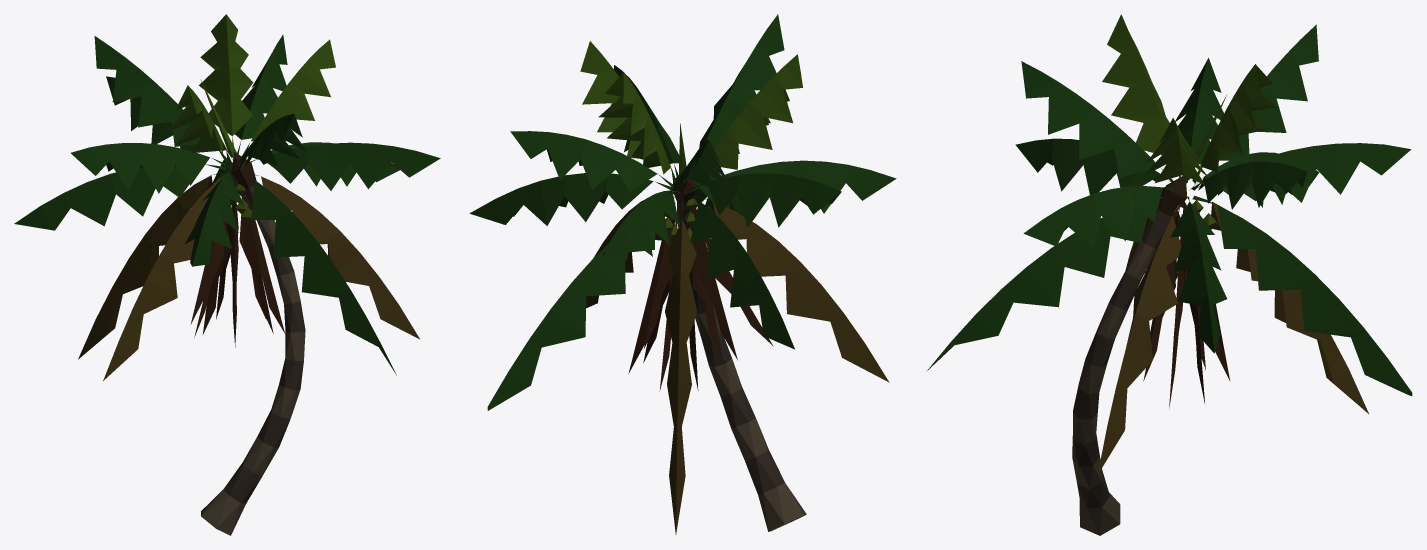
File: SM_Palm_Coco_D.fbx
3 renders of one model, left to right at view 1: azimuth 30°, elevation 25°; view 2: azimuth 150°, elevation 25°; view 3: azimuth 270°, elevation 25°, orthographic. The views are drawn at different scales.
Parts seen in each view (by area): view 1: SM_Palm_Coco_D_LOD0; view 2: SM_Palm_Coco_D_LOD0; view 3: SM_Palm_Coco_D_LOD0.
Boxes of the visible parts, x1=… form: SM_Palm_Coco_D_LOD0: x1=14, y1=14, x2=440, y2=535; SM_Palm_Coco_D_LOD0: x1=469, y1=14, x2=896, y2=534; SM_Palm_Coco_D_LOD0: x1=926, y1=14, x2=1412, y2=535.
Size of the model in its own units: 716 by 783 by 901.
